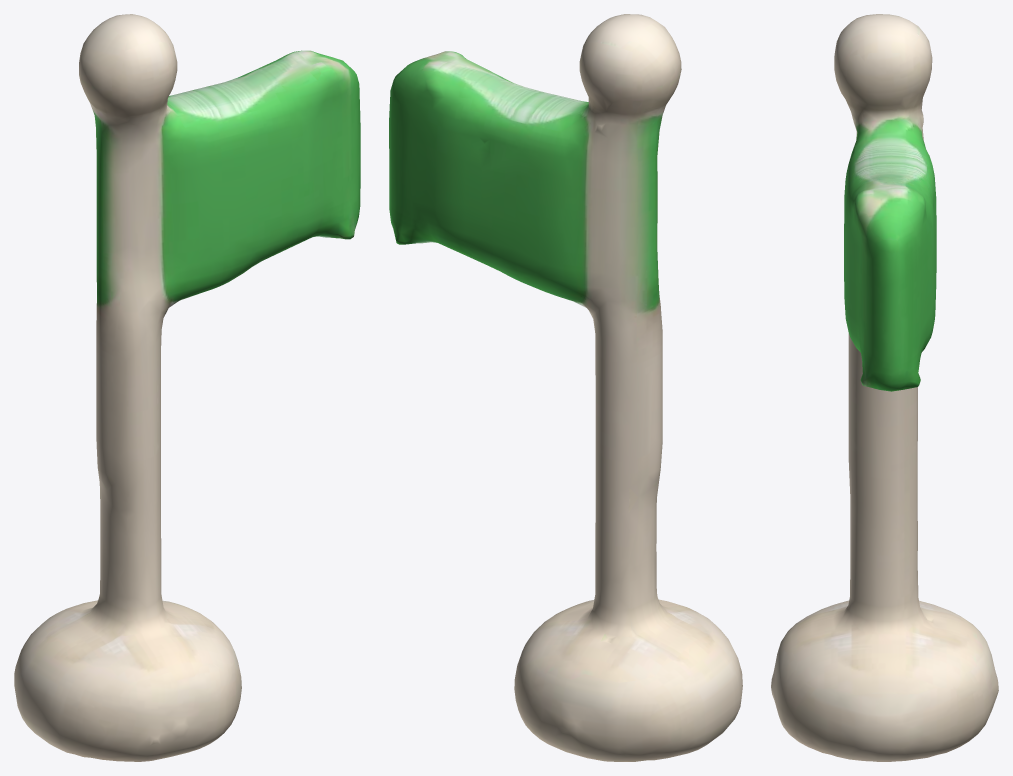
File: goal-flag.glb
3 renders of one model, left to right at view 1: azimuth 30°, elevation 25°; view 2: azimuth 150°, elevation 25°; view 3: azimuth 270°, elevation 25°, orthographic.
Parts seen in each view (by area): view 1: prop; view 2: prop; view 3: prop.
Part boxes in pixels (x1,y1,x2,y2): prop: (14,14,360,761); prop: (389,14,742,761); prop: (771,14,998,761).
Bounding box in the file's own units: 1.08 × 2.22 × 0.6452.
1 material, 1 textured.
